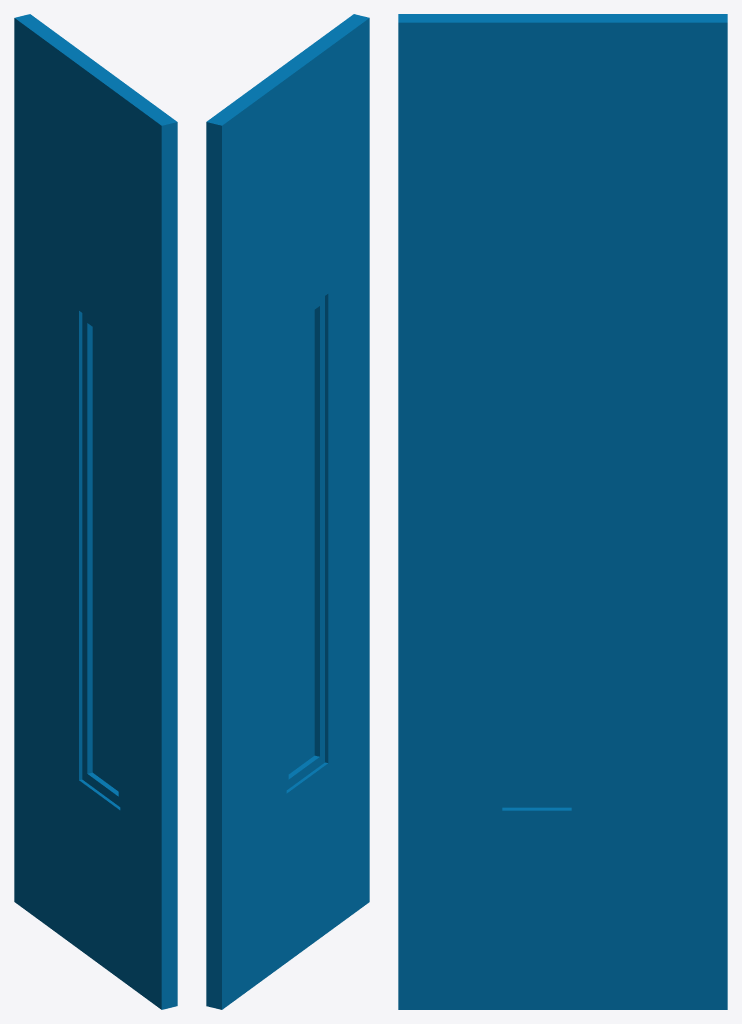
Rendered from MainDoor1bTransformed1.fbx.
3 views of the same model, side by side, from view 1: azimuth 30°, elevation 25°; view 2: azimuth 150°, elevation 25°; view 3: azimuth 270°, elevation 25° (orthographic). The views are drawn at different scales.
Parts seen in each view (by area): view 1: HB_Door_Concept_Int_Dbl_Solid_VP_- DT-04:1510x2410mm RB DT 0; view 2: HB_Door_Concept_Int_Dbl_Solid_VP_- DT-04:1510x2410mm RB DT 0; view 3: HB_Door_Concept_Int_Dbl_Solid_VP_- DT-04:1510x2410mm RB DT 0.
Part boxes in pixels (x1,y1,x2,y2): HB_Door_Concept_Int_Dbl_Solid_VP_- DT-04:1510x2410mm RB DT 0: (14, 14, 177, 1009); HB_Door_Concept_Int_Dbl_Solid_VP_- DT-04:1510x2410mm RB DT 0: (206, 14, 369, 1009); HB_Door_Concept_Int_Dbl_Solid_VP_- DT-04:1510x2410mm RB DT 0: (398, 14, 727, 1009).
Bounding box in the file's own units: 0.0445 × 2.35 × 0.7115.
